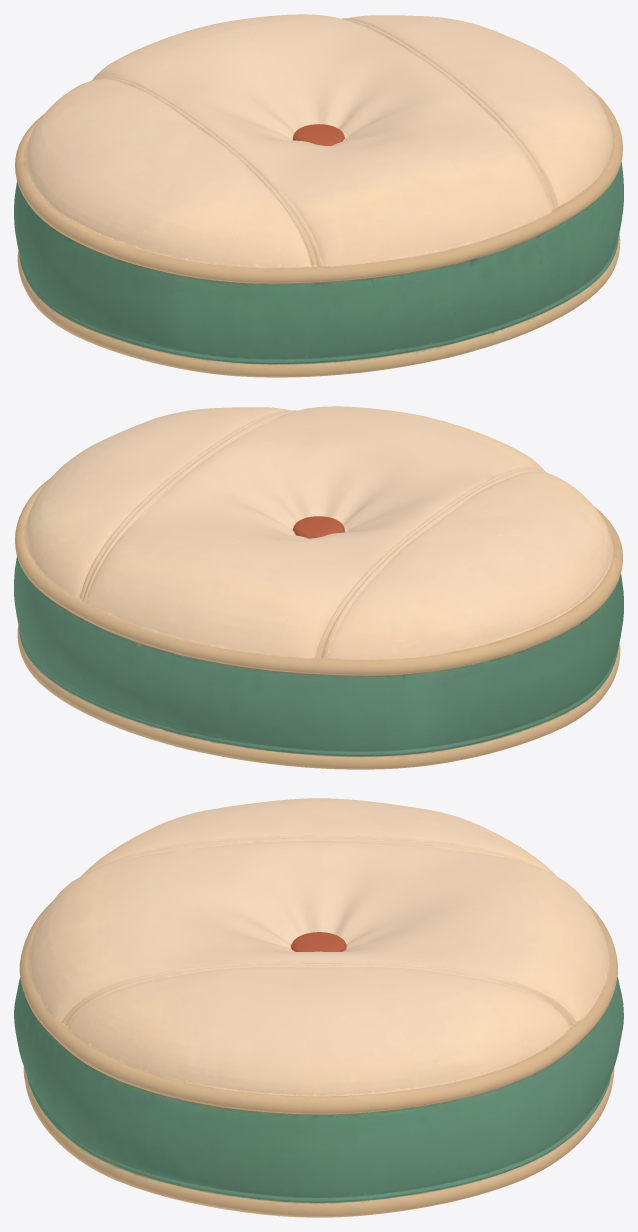
File: majlis-cushion-variant-06-soft-oval.glb
The picture shows the model from 3 angles, top to bottom: view 1: azimuth 30°, elevation 25°; view 2: azimuth 150°, elevation 25°; view 3: azimuth 270°, elevation 25°; orthographic projection. The views are drawn at different scales.
Parts seen in each view (by area): view 1: mesh_node; view 2: mesh_node; view 3: mesh_node.
Boxes of the visible parts, box(x1,y1,x2,y2) form: mesh_node: box(14, 14, 623, 377); mesh_node: box(14, 406, 623, 769); mesh_node: box(14, 798, 623, 1217).
Bounding box in the file's own units: 1.9 × 0.5597 × 1.71.
Materials: 1 (1 with a texture image).
